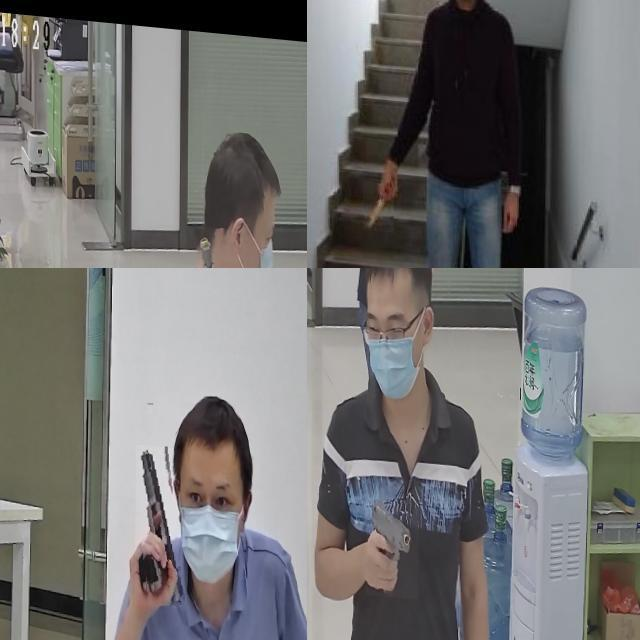-: (363, 177, 395, 228)
gun-knife-thesis - v11 Yolov5 augmented: (136, 439, 182, 602), (366, 490, 419, 592), (199, 219, 241, 268)
